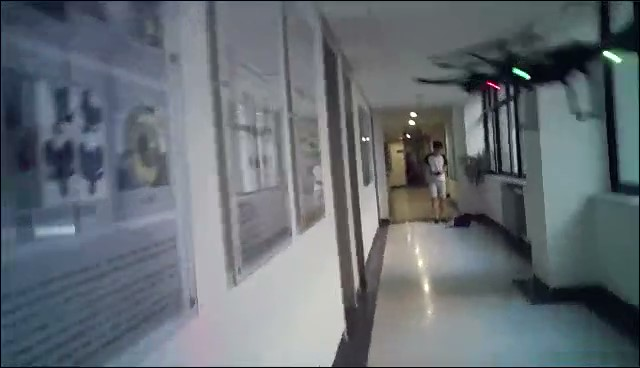drone: (422, 140, 451, 225)
person: (414, 2, 640, 122)
